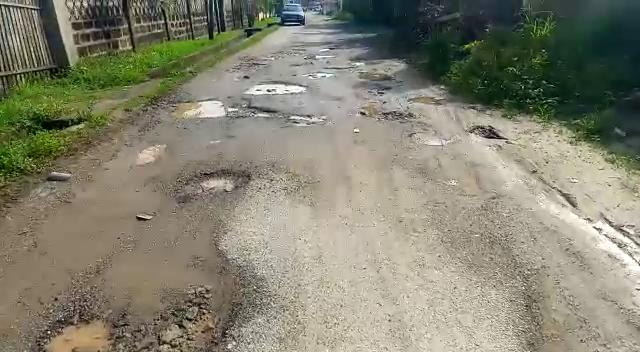pothole: (32, 311, 124, 352), (173, 166, 252, 198), (171, 100, 278, 119), (243, 80, 313, 95), (285, 111, 327, 126)
